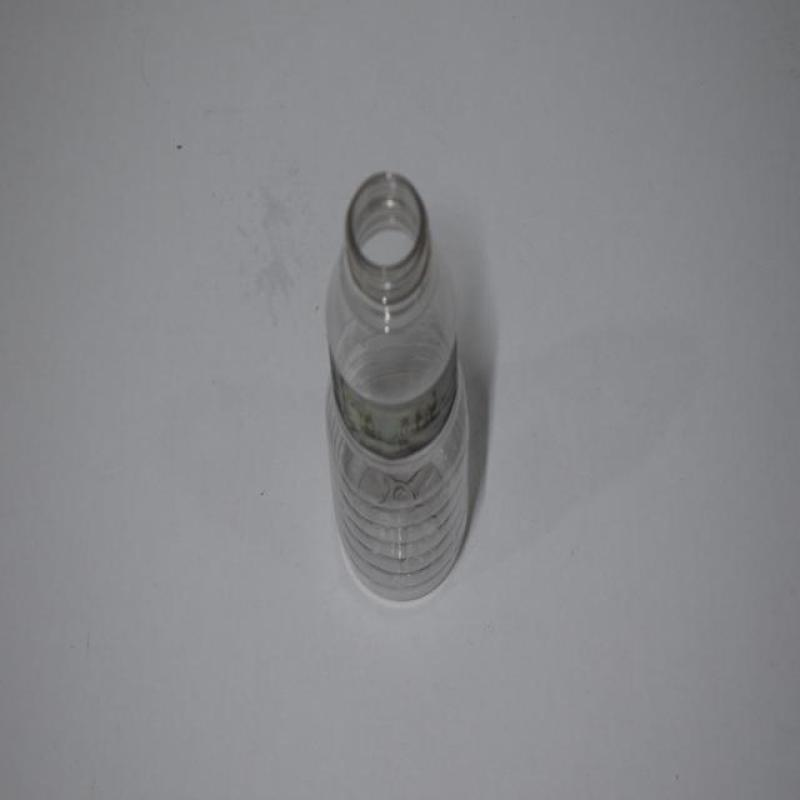botella: (322, 170, 469, 602)
